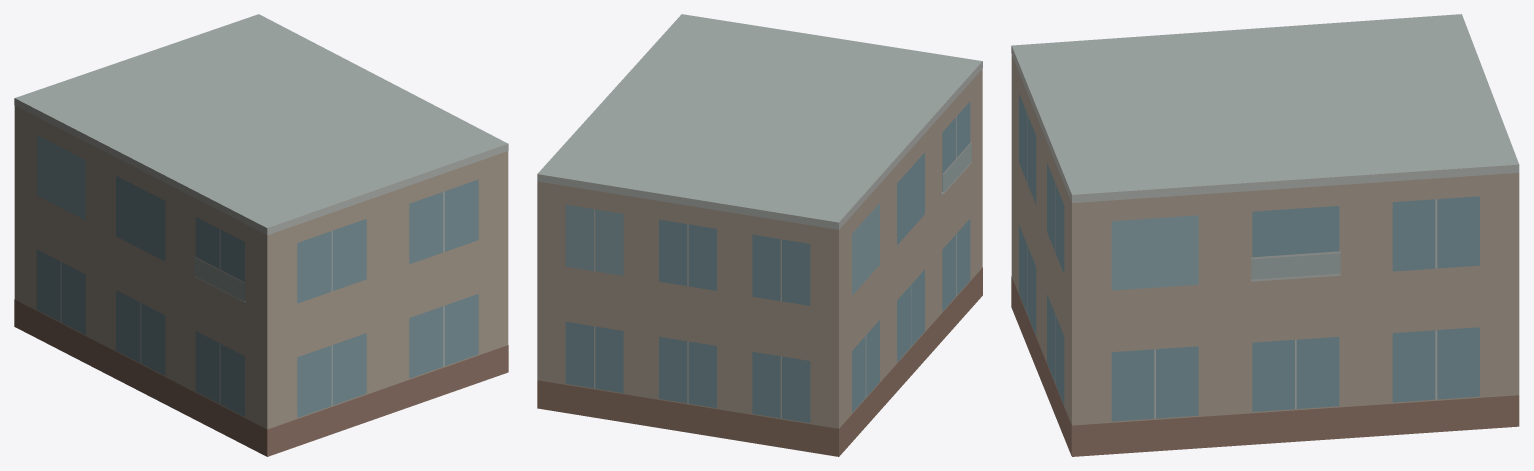
Rendered from survey-upis-32746689.glb.
3 views of the same model, side by side, from view 1: azimuth 30°, elevation 25°; view 2: azimuth 150°, elevation 25°; view 3: azimuth 270°, elevation 25° (orthographic). The views are drawn at different scales.
Parts seen in each view (by area): view 1: survey-upis-32746689.tmp; view 2: survey-upis-32746689.tmp; view 3: survey-upis-32746689.tmp.
Part boxes in pixels (<box>): survey-upis-32746689.tmp: <box>14,14,508,456</box>; survey-upis-32746689.tmp: <box>537,14,982,456</box>; survey-upis-32746689.tmp: <box>1011,14,1519,456</box>.
Bounding box in the file's own units: 11.56 × 7.8 × 13.71.
